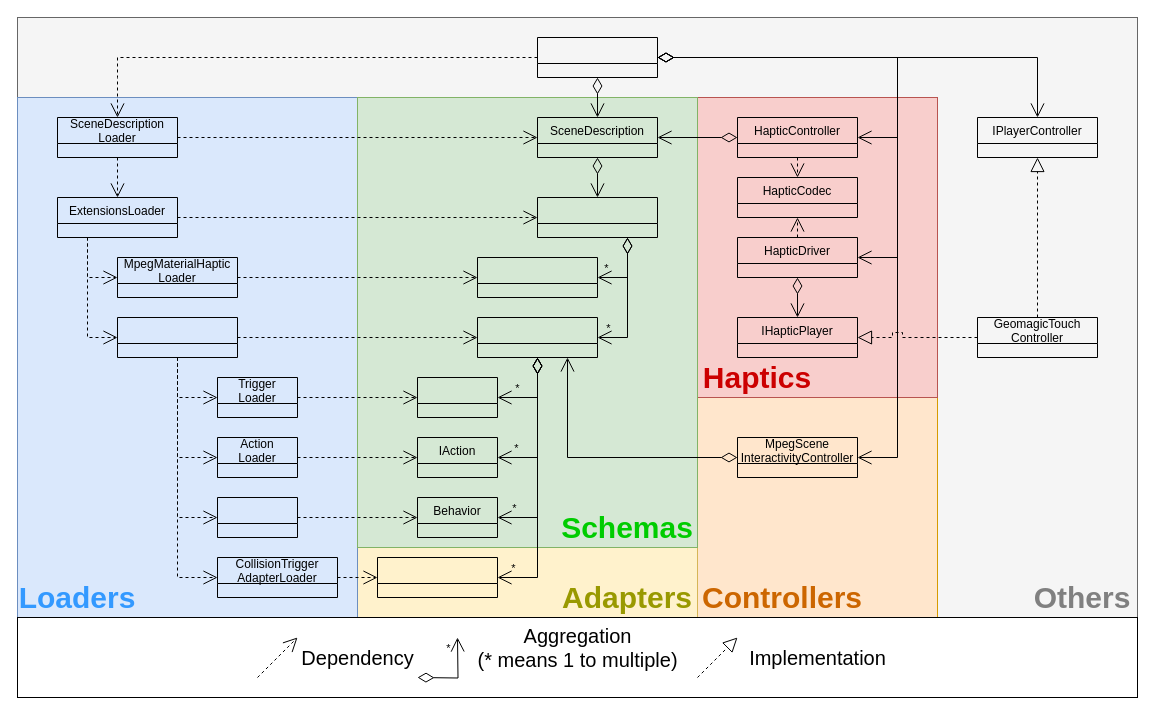
Image size: 1155x715. Some labels were removed from this diagram. The box of each missing label's shape, as (x1, y1, x2, y2) in pixels:
App: (536, 36, 658, 78)
Behavior Loader: (216, 496, 298, 538)
CollisionTrigger Adapter: (376, 556, 498, 598)
Extensions: (536, 196, 658, 238)
ITrigger: (416, 376, 498, 418)
MpegMaterialHaptic: (476, 256, 598, 298)
MpegScene Interactivity: (476, 316, 598, 358)
MpegScene InteractivityLoader: (116, 316, 238, 358)
